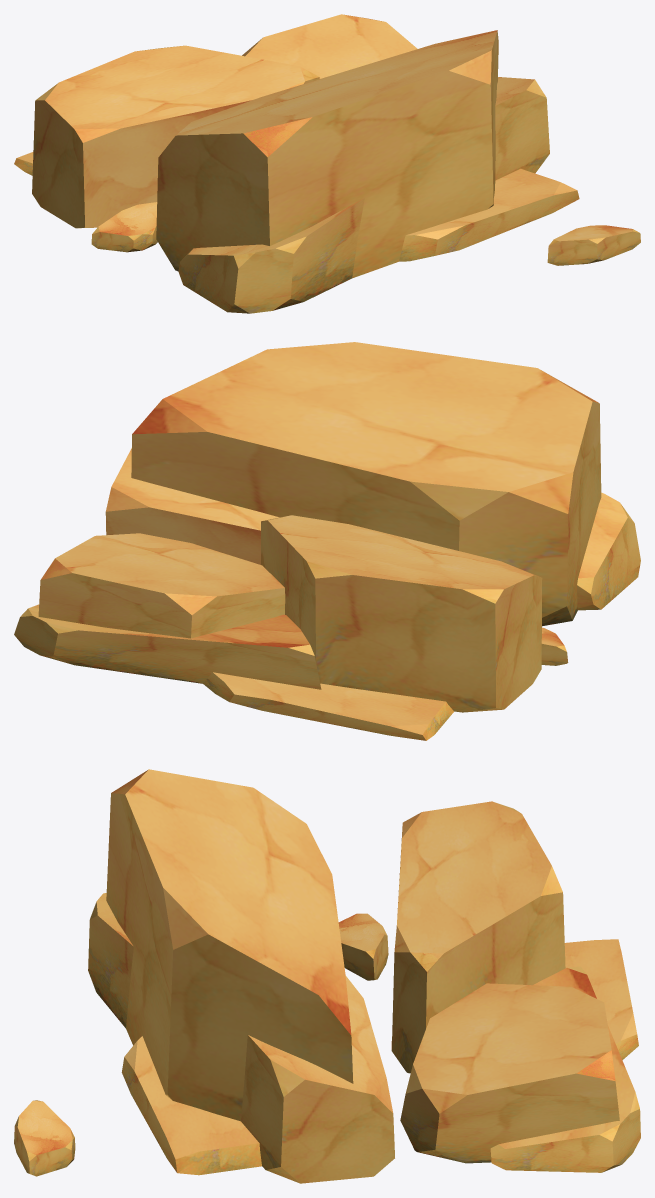
File: rockdesert002.glb
3 views of the same model, one above another, from view 1: azimuth 30°, elevation 25°; view 2: azimuth 150°, elevation 25°; view 3: azimuth 270°, elevation 25° (orthographic). The views are drawn at different scales.
Parts seen in each view (by area): view 1: rockDesert002; view 2: rockDesert002; view 3: rockDesert002.
Boxes of the visible parts, x1=… form: rockDesert002: x1=14, y1=14, x2=640, y2=313; rockDesert002: x1=14, y1=342, x2=640, y2=740; rockDesert002: x1=14, y1=769, x2=640, y2=1183.
Size of the model in its own units: 0.8622 by 0.332 by 0.8957.
Materials: 1 (1 with a texture image).
